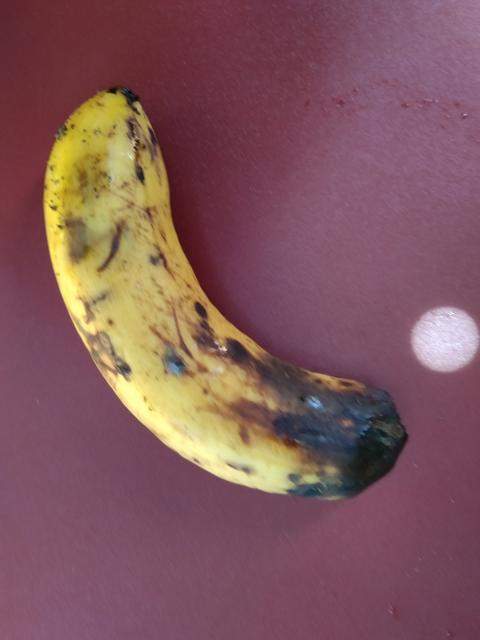rotten: (30, 76, 412, 529)
